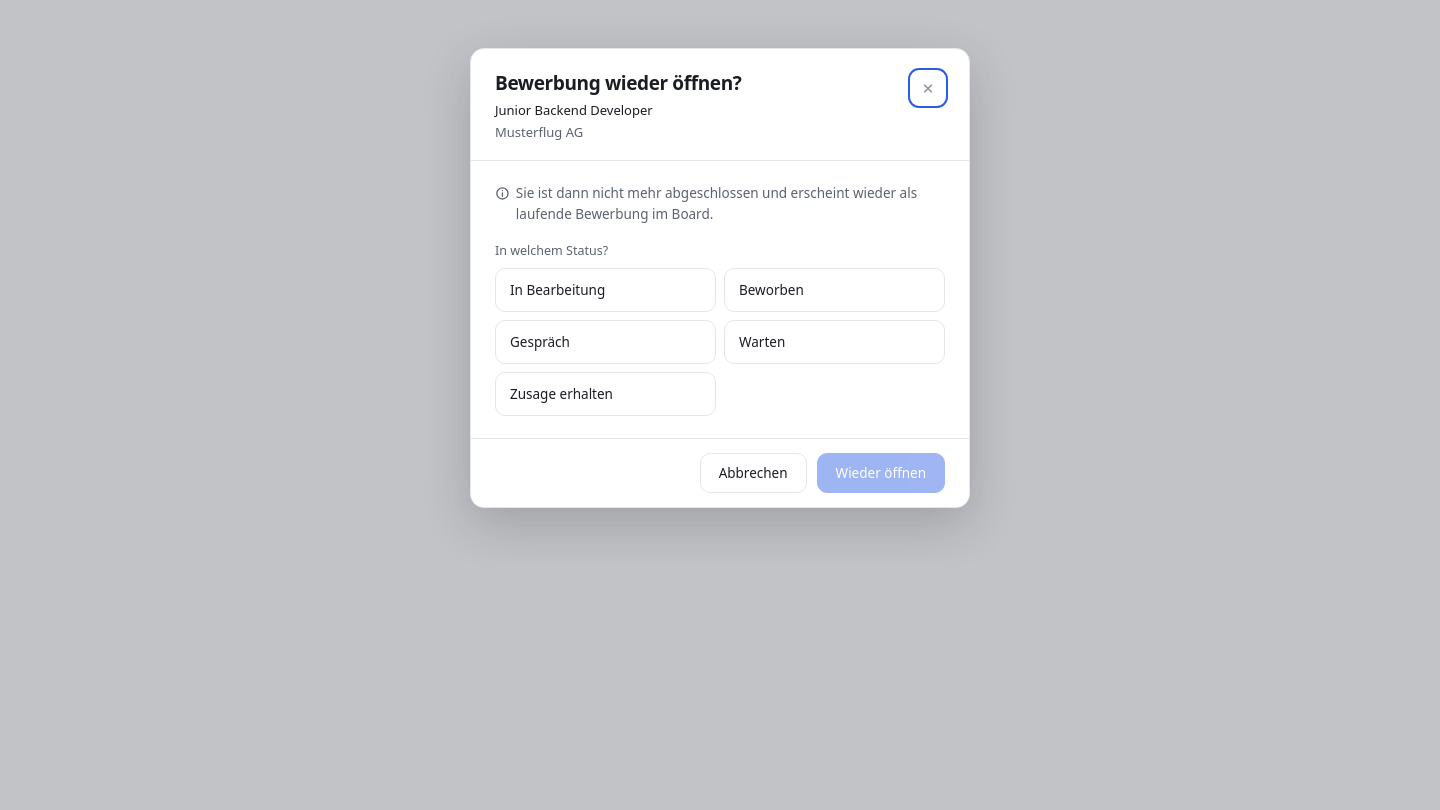
Test: ReopenDialog › weist bei „In Bearbeitung“ auf das Zurücksetzen hin
What coordinates should you click on to do the following:
click the radio button labelled "In Bearbeitung"
I would click on:
 (606, 290)
Its box is [495,268,716,312].
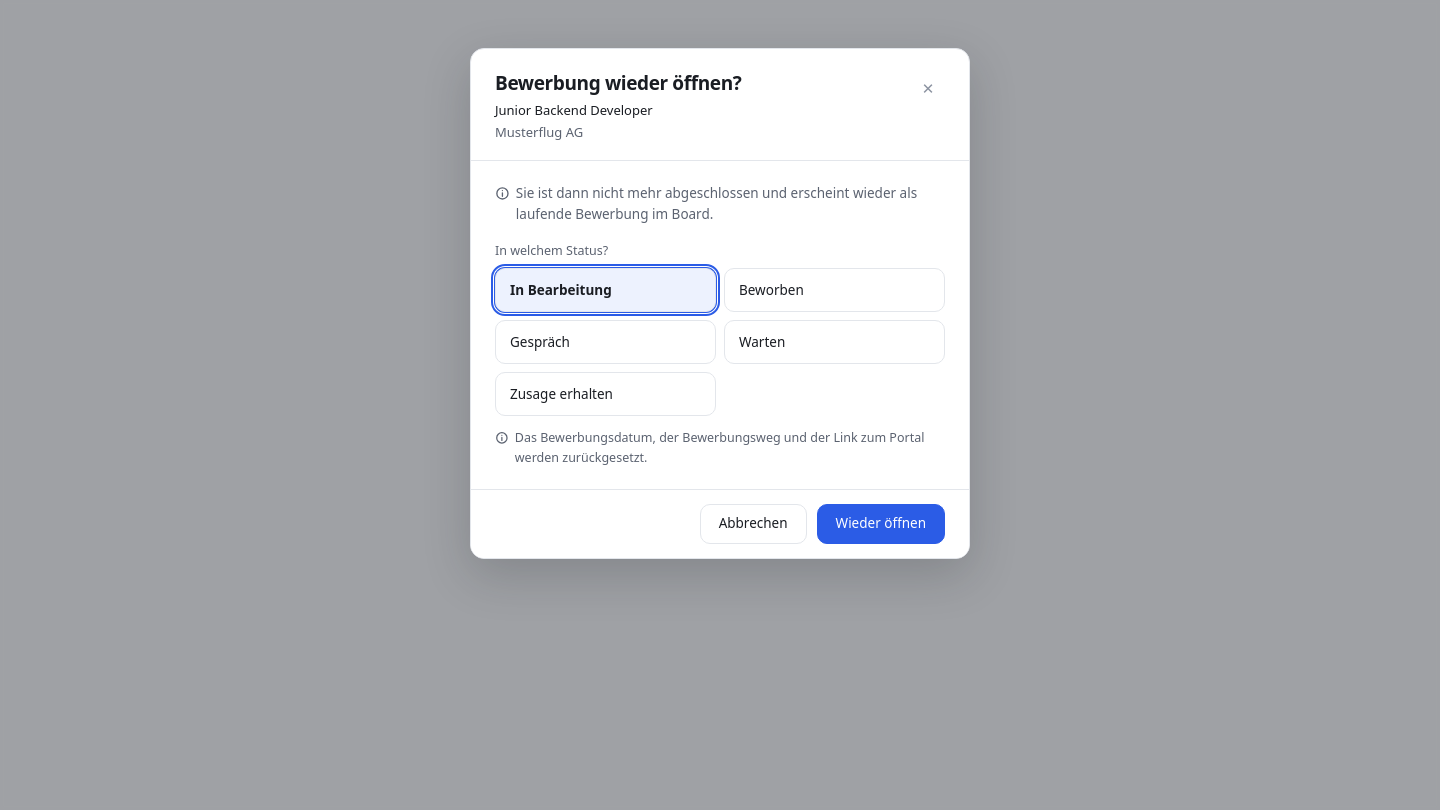
Expected: the text "werden zurückgesetzt" is shown, [515,429,924,466]
